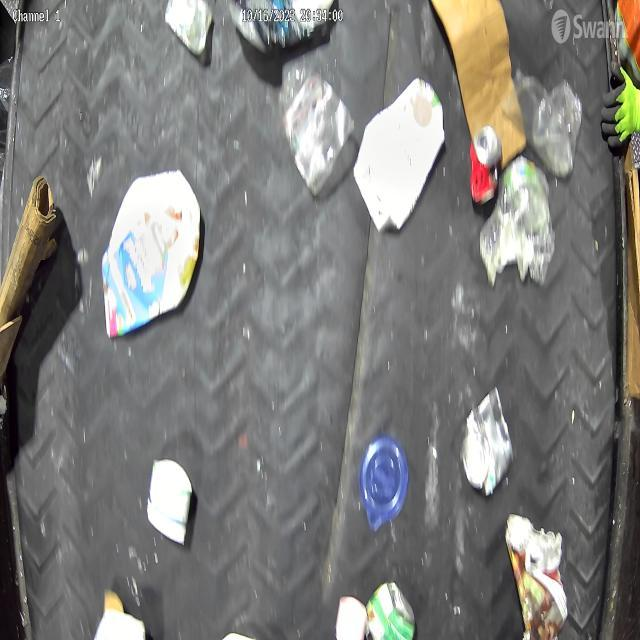can: (461, 386, 516, 508), (365, 570, 415, 640), (467, 127, 498, 216)
milk_jug: (354, 71, 444, 239)
